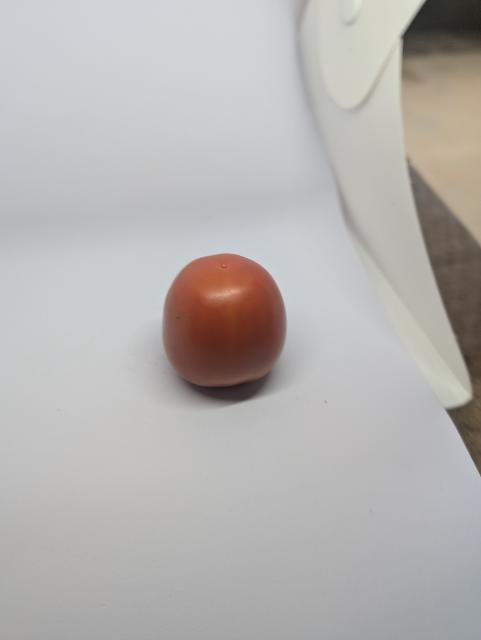red: (150, 237, 303, 403)
